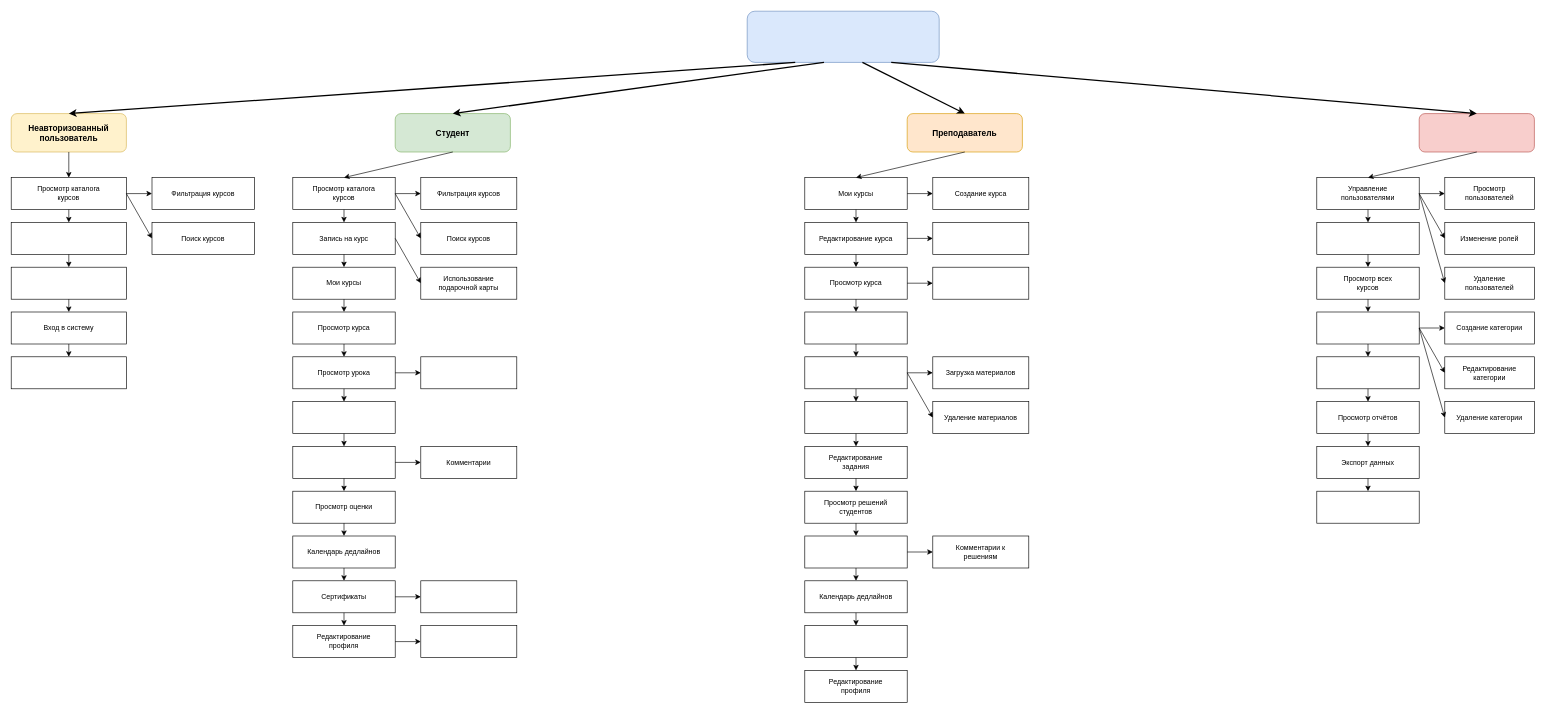
This 1546x714 diagram has some shape labels left out. The shapes that lost their labels are listed below. From the top down, each one's centre as x and y in pixels, then its label:
At [843,36]: "SupSchool (Онлайн-школа)".
At [1476,132]: "Администратор".
At [68,238]: "Просмотр описания курса".
At [980,238]: "Архивирование курса".
At [1367,238]: "Управление курсами".
At [68,283]: "Регистрация".
At [980,283]: "Просмотр списка студентов".
At [855,327]: "Создание урока".
At [1367,327]: "Управление категориями".
At [68,372]: "Сброс пароля".
At [468,372]: "Скачивание материалов".
At [855,372]: "Редактирование урока".
At [1367,372]: "Статистика платформы".
At [343,417]: "Просмотр задания".
At [855,417]: "Создание задания".
At [343,462]: "Отправка решения".
At [1367,507]: "Импорт данных".
At [855,551]: "Выставление оценок".
At [468,596]: "Скачать сертификат".
At [468,641]: "Настройки".
At [855,641]: "Статистика курса".
